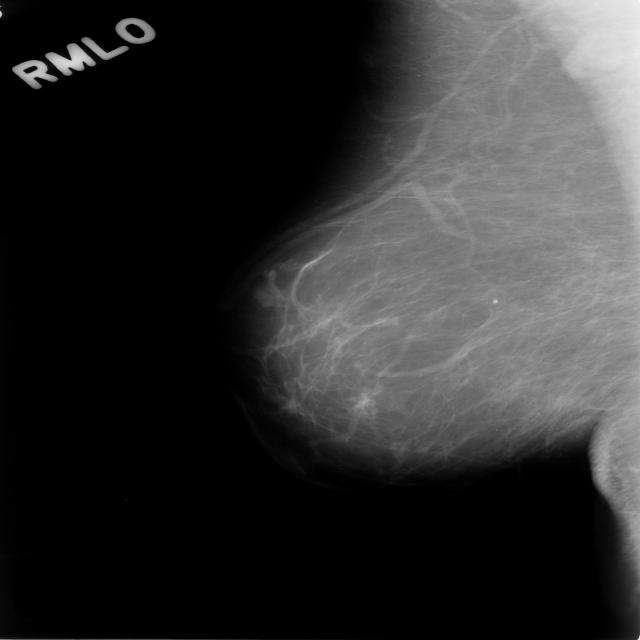normal: (248, 0, 640, 462)
